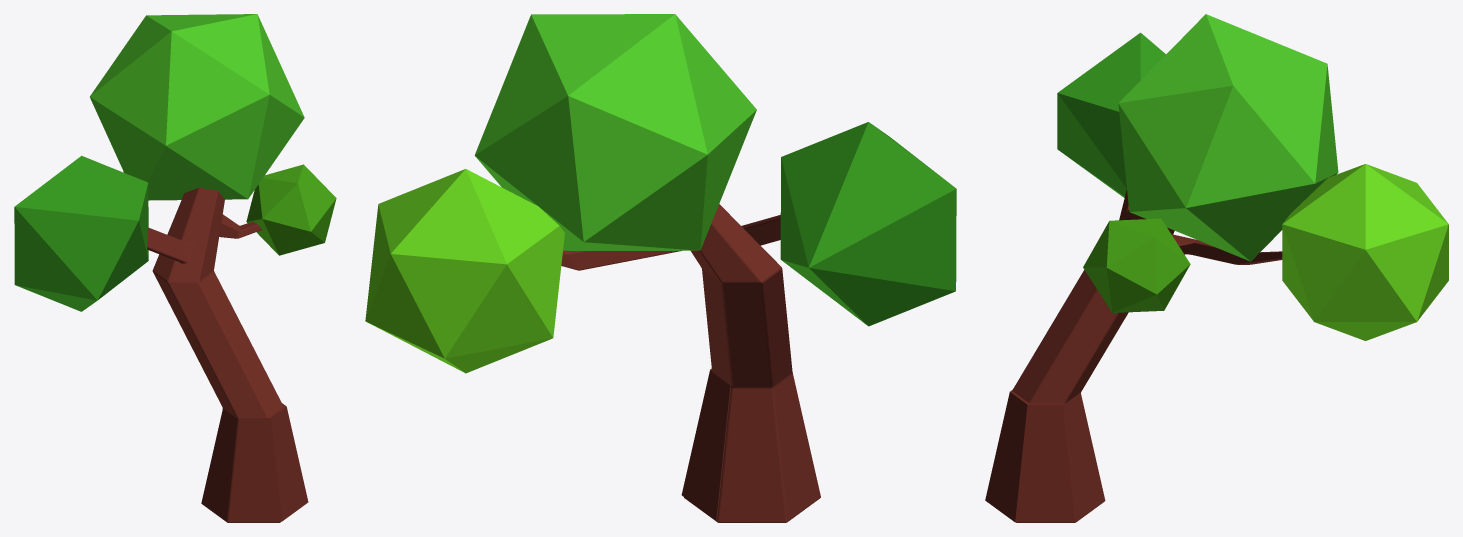
The model's file is Low poly tree 2.fbx.
3 renders of one model, left to right at view 1: azimuth 30°, elevation 25°; view 2: azimuth 150°, elevation 25°; view 3: azimuth 270°, elevation 25°, orthographic. The views are drawn at different scales.
Parts seen in each view (by area): view 1: Icosphere.001, Cylinder.006, Icosphere, Cylinder, Icosphere.004; view 2: Icosphere.001, Icosphere.002, Icosphere, Cylinder.006, Cylinder; view 3: Icosphere.001, Icosphere.002, Cylinder, Cylinder.006, Icosphere, Icosphere.004.
Part boxes in pixels (x1,y1,x2,y2): Icosphere.001: (90, 14, 304, 200); Cylinder.006: (147, 188, 283, 522); Icosphere: (14, 155, 148, 311); Cylinder: (229, 403, 308, 521); Icosphere.004: (246, 164, 336, 255); Icosphere.001: (474, 14, 756, 251); Icosphere.002: (365, 169, 564, 373); Icosphere: (780, 122, 956, 326); Cylinder.006: (561, 204, 820, 522); Cylinder: (681, 368, 730, 520); Icosphere.001: (1118, 14, 1338, 261); Icosphere.002: (1282, 164, 1448, 340); Cylinder: (985, 390, 1104, 522); Cylinder.006: (1012, 189, 1282, 522); Icosphere: (1057, 32, 1165, 197); Icosphere.004: (1083, 218, 1190, 312).
Bounding box in the file's own units: 747 × 884 × 773.
